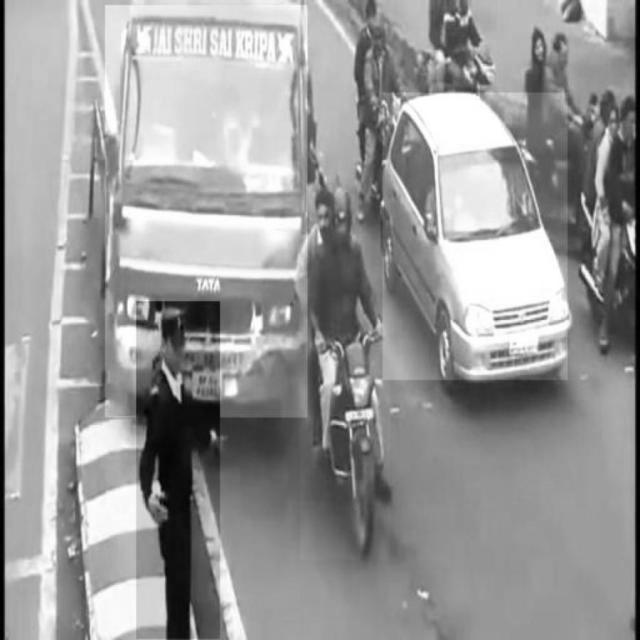person: (137, 302, 220, 639)
vehicle: (105, 5, 307, 418), (382, 92, 568, 380), (300, 194, 390, 560)
